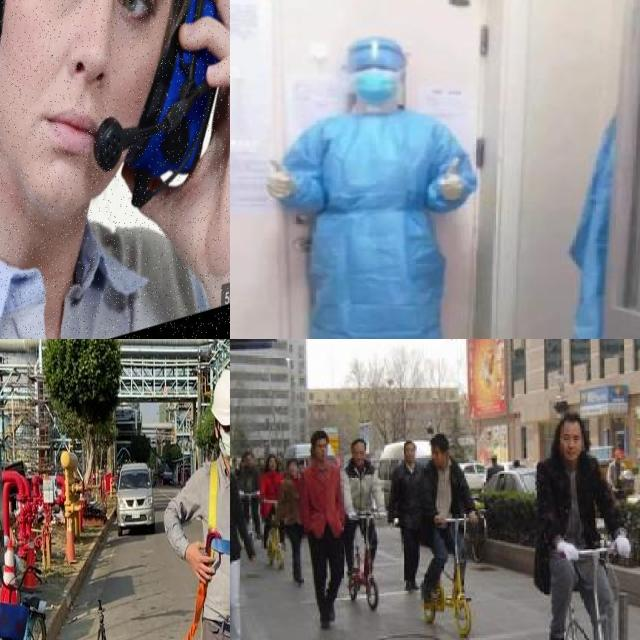Harness: (205, 461, 230, 559), (183, 583, 208, 640)
No_Glasses: (61, 0, 171, 49)
face_mask: (351, 60, 402, 112)
face_nomask: (0, 0, 164, 223), (558, 428, 584, 463), (428, 444, 450, 464), (314, 440, 331, 465), (351, 446, 369, 463), (403, 443, 417, 463)
hand_glove: (266, 158, 295, 203), (437, 158, 462, 202), (612, 534, 632, 558), (556, 538, 578, 558), (377, 508, 388, 520), (348, 509, 358, 520)
hand_noglove: (144, 0, 230, 307), (430, 511, 444, 526), (464, 511, 480, 523), (248, 552, 255, 565), (611, 485, 615, 491), (262, 497, 264, 503)
head_nohelmet: (551, 410, 586, 430), (426, 432, 451, 451), (308, 429, 330, 443), (350, 436, 368, 450), (402, 440, 418, 451)
person: (262, 36, 478, 339), (526, 417, 632, 640), (287, 429, 358, 640), (423, 434, 483, 623), (346, 437, 391, 609), (392, 439, 429, 597)
shoes: (541, 620, 573, 640), (315, 602, 337, 628)
